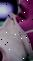with_mask: (1, 1, 33, 61)
